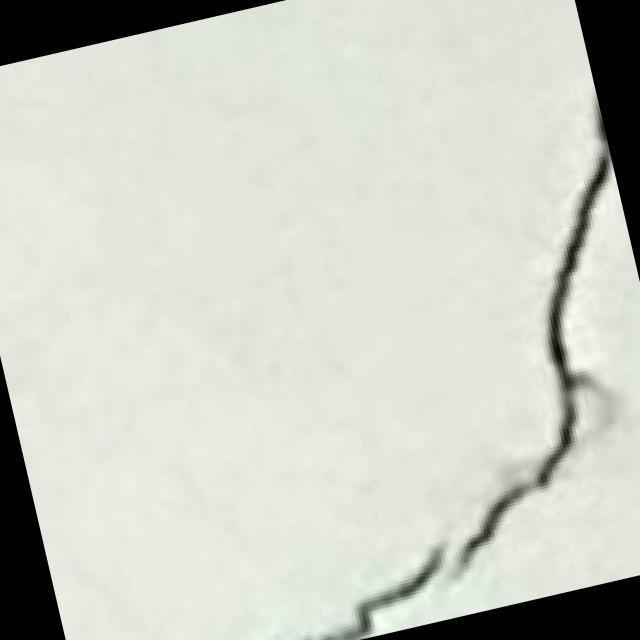crack: (158, 86, 640, 640)
